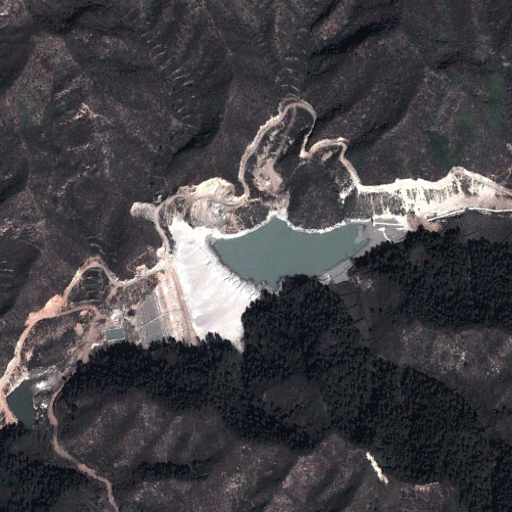tp: (139, 212, 410, 356)
